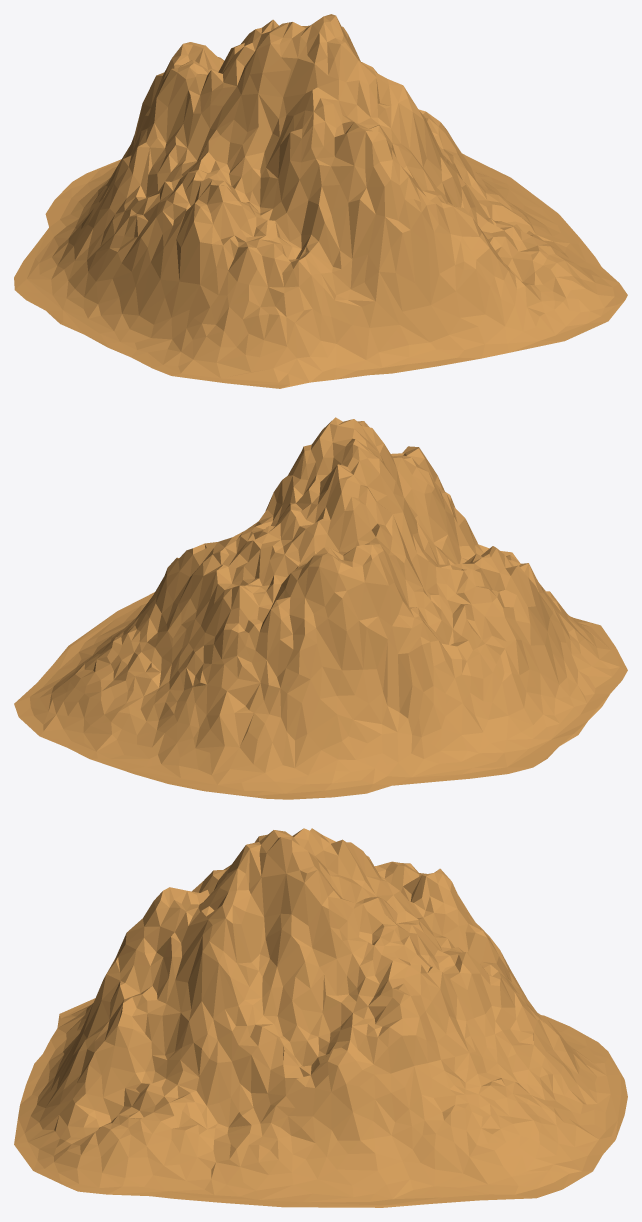
The model's file is Island1.fbx.
3 renders of one model, top to bottom at view 1: azimuth 30°, elevation 25°; view 2: azimuth 150°, elevation 25°; view 3: azimuth 270°, elevation 25°, orthographic. The views are drawn at different scales.
Parts seen in each view (by area): view 1: Mounting_1; view 2: Mounting_1; view 3: Mounting_1.
Part boxes in pixels (x1,y1,x2,y2): Mounting_1: [14, 14, 627, 388]; Mounting_1: [14, 417, 627, 799]; Mounting_1: [14, 828, 627, 1207].
Bounding box in the file's own units: 1572 × 779 × 1675.
